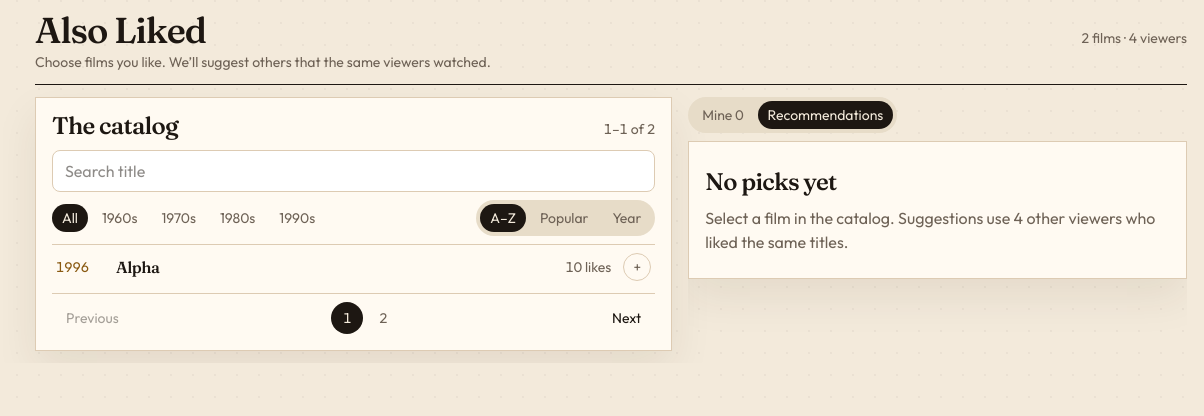
Test: App › clears a selection and ignores an aborted suggestion request
Click the button "1996 Alpha 10 likes +" at (73,267), box [52,244,655,289]
Wait 160 ms
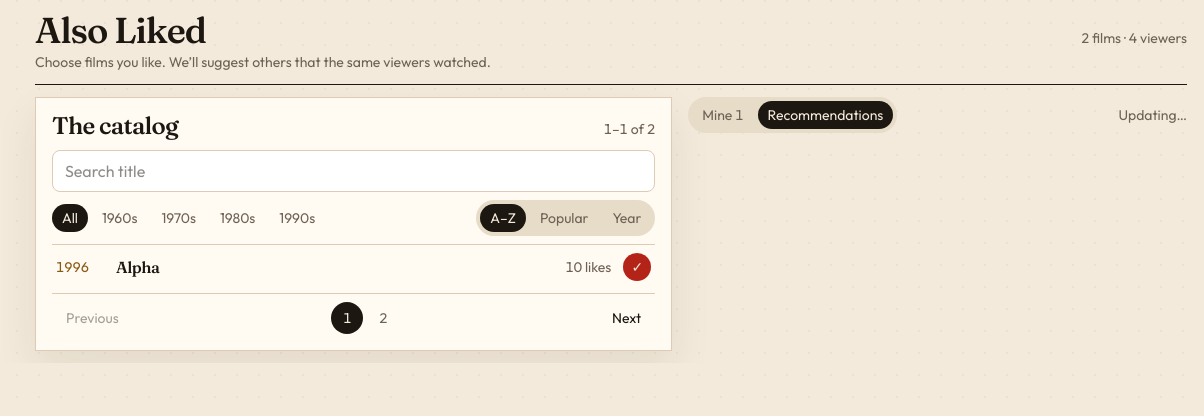
Type "Bravo" into the search field with placeholder "Search title" at (354,171), box [52,150,655,192]
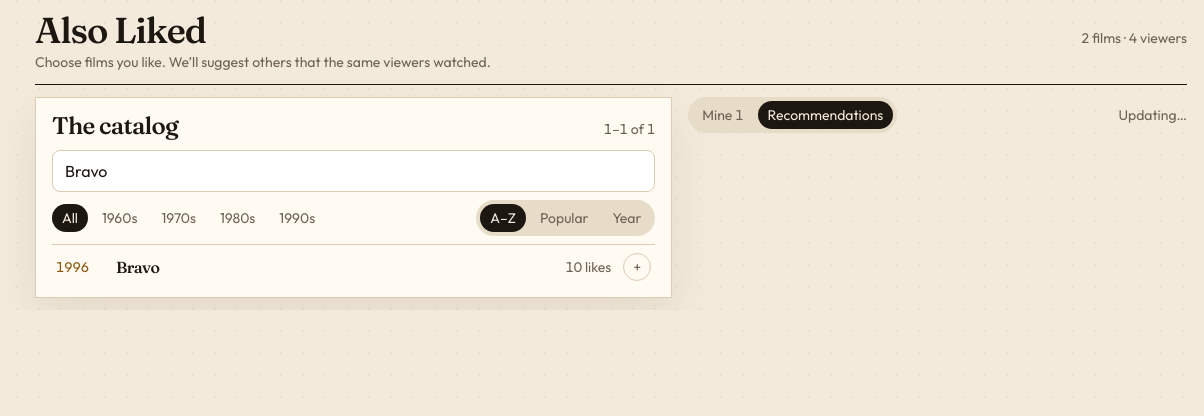
Click the button "1996 Bravo 10 likes +" at (73,267), box [52,244,655,289]
Wait 160 ms
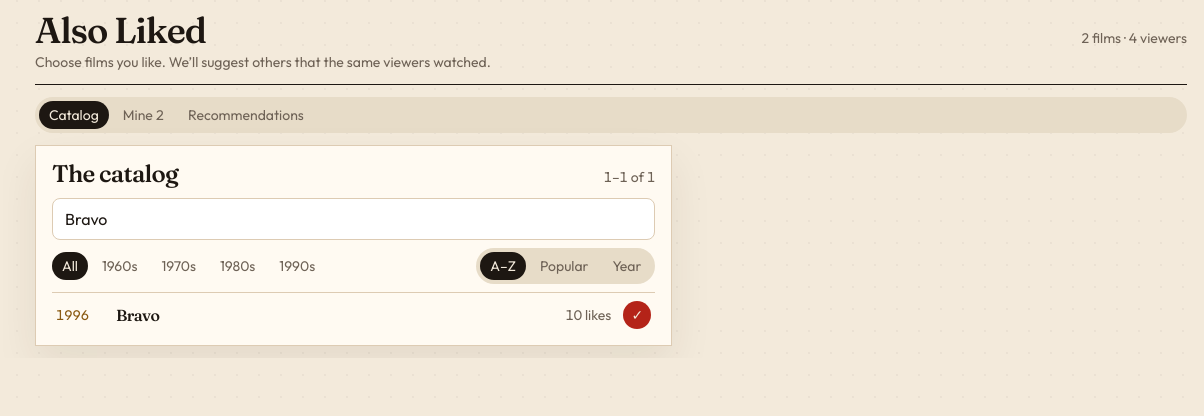
Click the tab with id "tab-mine" at (143,115), box [113,101,174,129]
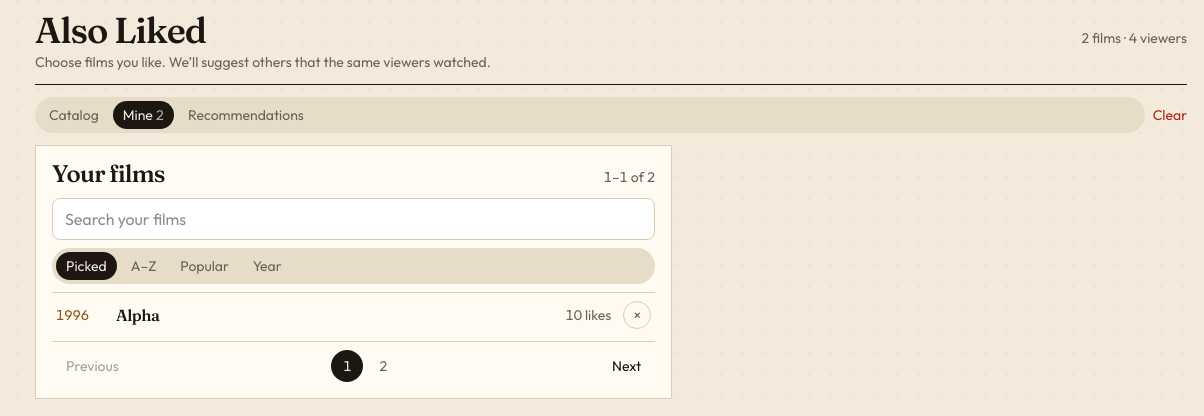
Click the button "Clear" at (1170,115), box [1153,105,1187,125]
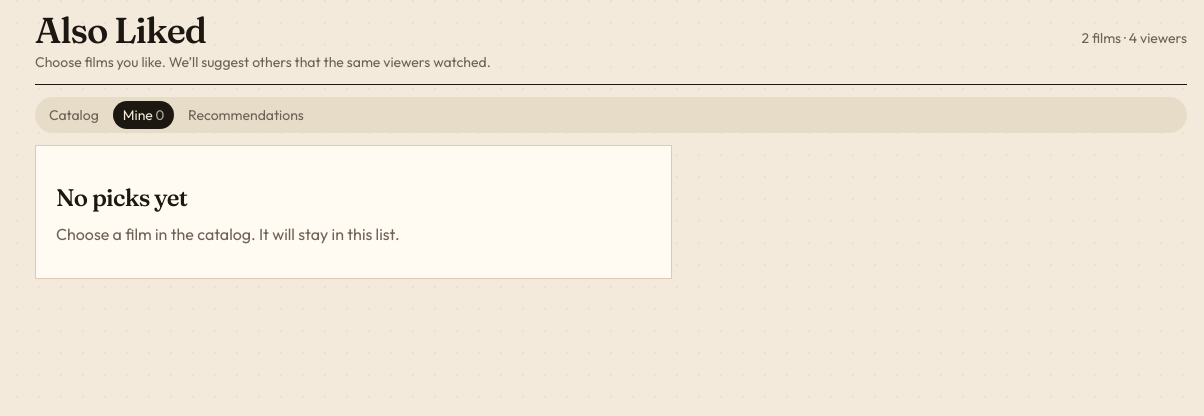
Expected: the text "No picks yet" is shown, [56,183,187,212]
